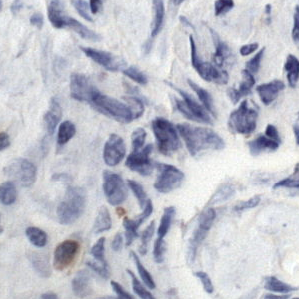Lymphocyte: (51, 238, 81, 273)
